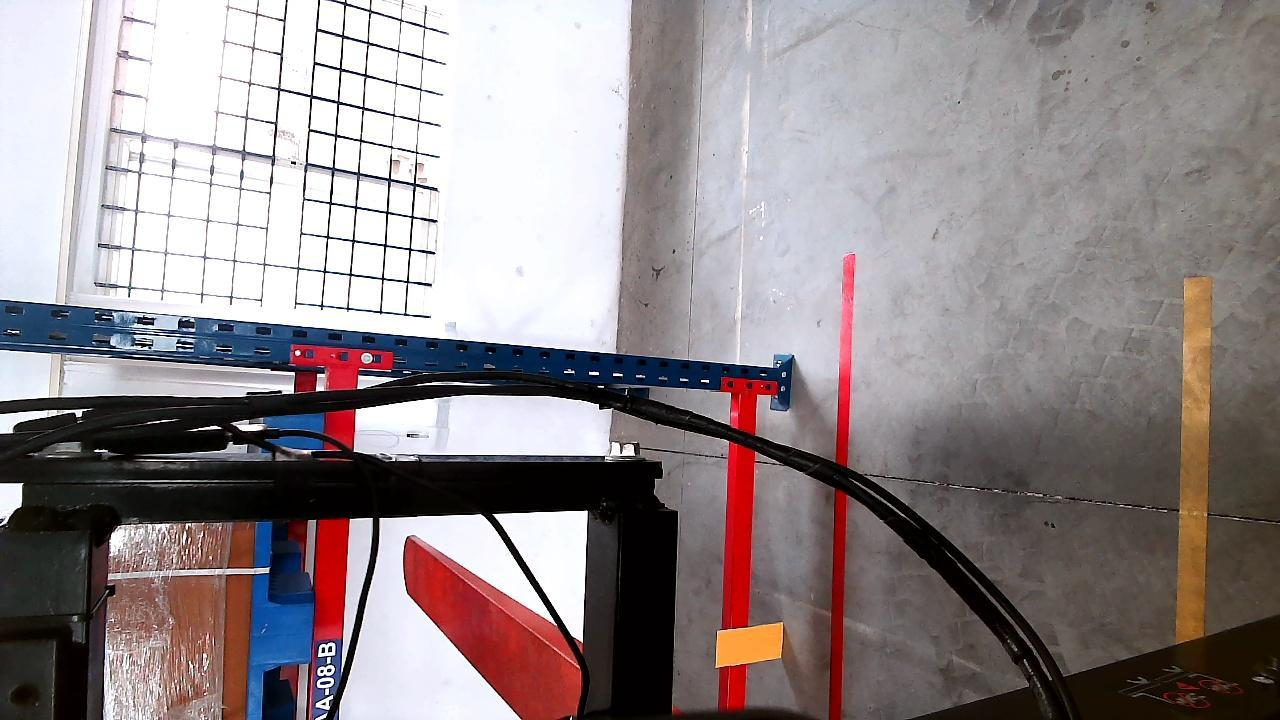red_line: (827, 258, 854, 720)
yellow_line: (1177, 266, 1213, 648)
